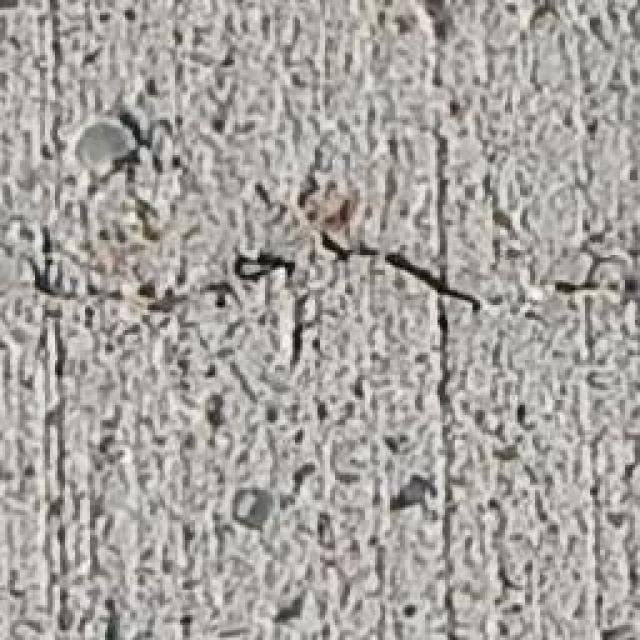concrete-crack: (0, 215, 640, 333)
